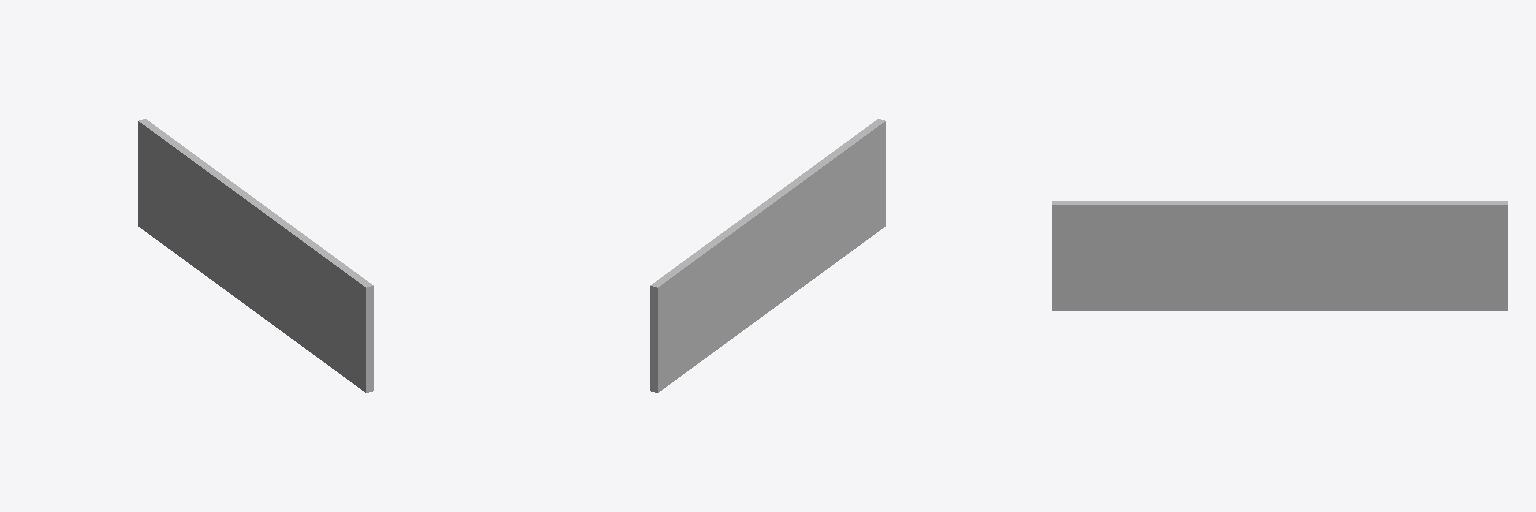
File: pared_cocina_anterior.obj
3 views of the same model, side by side, from view 1: azimuth 30°, elevation 25°; view 2: azimuth 150°, elevation 25°; view 3: azimuth 270°, elevation 25° (orthographic).
Size of the model in its own units: 0.4298 by 5.53 by 21.67.